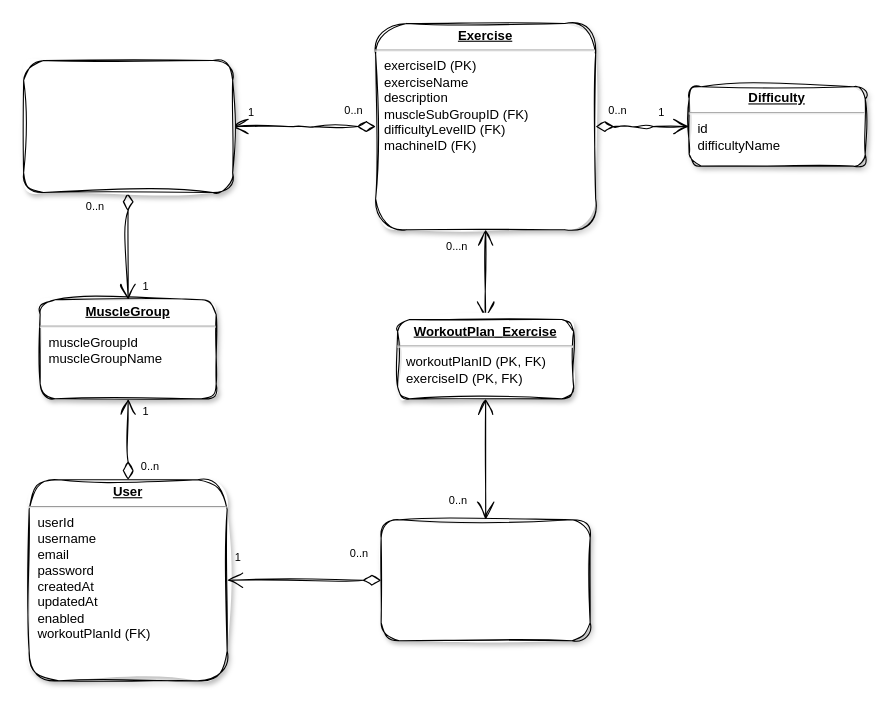
This 891x708 diagram has some shape labels left out. Here are the shapes that lost their labels. From the top down, the centre of each, then its label:
point (128, 127): MuscleGroup muscleSubGroupID (PK) muscleSubGroupName muscleGroupID (FK)
point (486, 581): WorkoutPlan workoutPlanID (PK) planName userID (FK)
